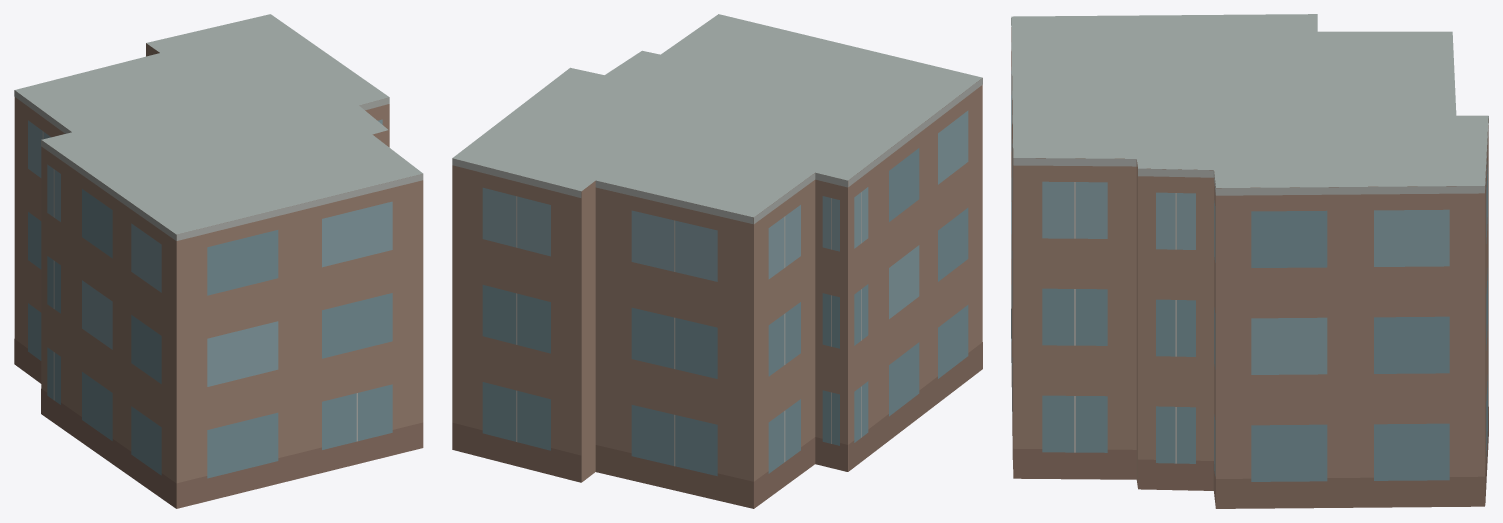
The model's file is survey-upis-32867093.glb.
3 renders of one model, left to right at view 1: azimuth 30°, elevation 25°; view 2: azimuth 150°, elevation 25°; view 3: azimuth 270°, elevation 25°, orthographic. The views are drawn at different scales.
Parts seen in each view (by area): view 1: survey-upis-32867093.tmp; view 2: survey-upis-32867093.tmp; view 3: survey-upis-32867093.tmp.
Boxes of the visible parts, <box> form: survey-upis-32867093.tmp: <box>14,14,423,508</box>; survey-upis-32867093.tmp: <box>452,14,982,508</box>; survey-upis-32867093.tmp: <box>1011,14,1488,508</box>.
Bounding box in the file's own units: 11.93 × 10.24 × 13.82.
